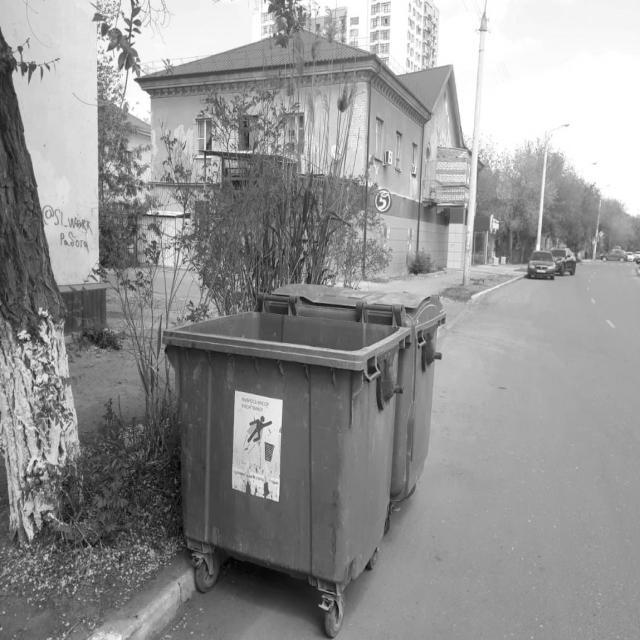bin: (165, 282, 449, 640)
